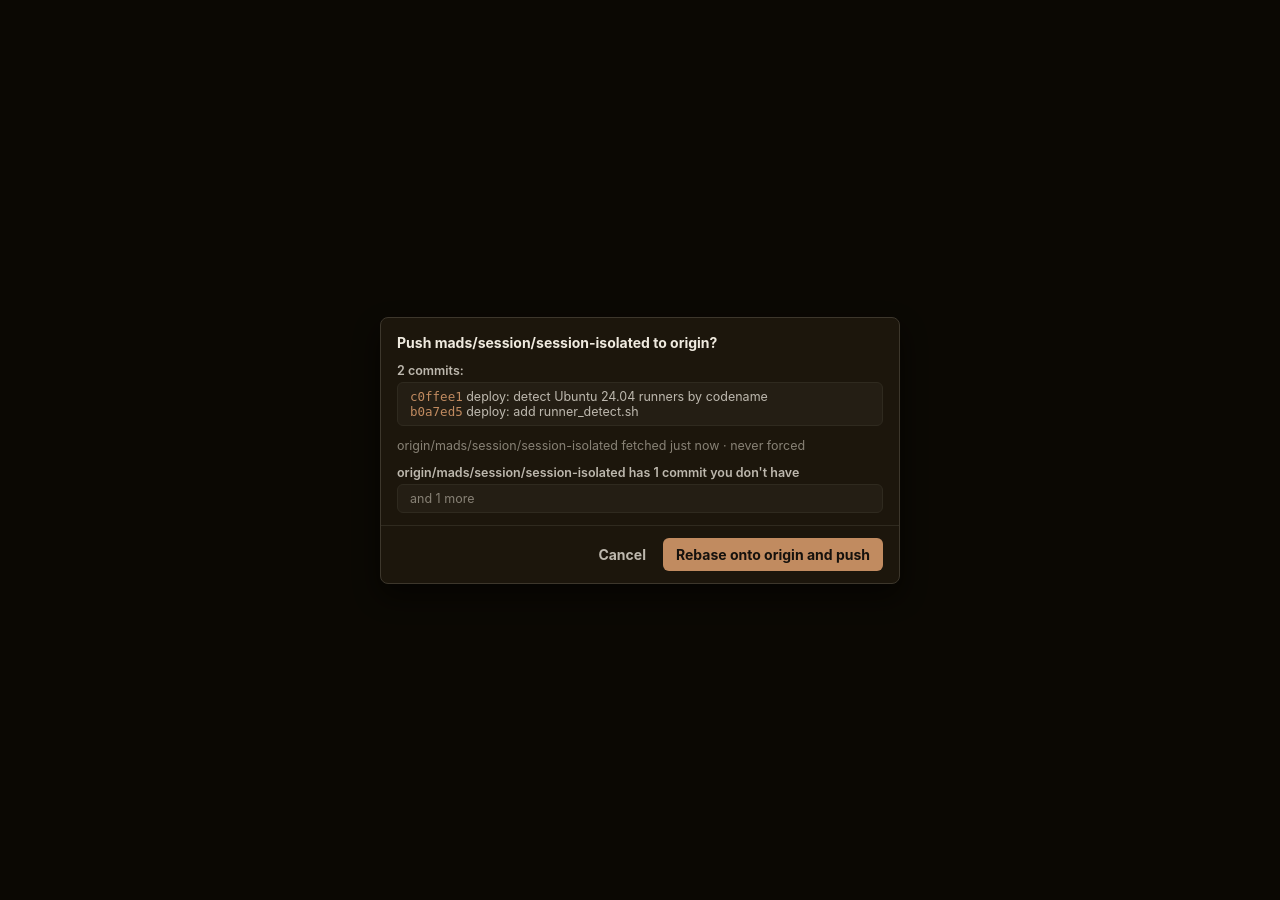
Scenario: PushDialog (D5, mockup §3) › has no Ask the agent without somewhere to draft it
Step 1. Click the button "Rebase onto origin and push" → x=773, y=554, box [663,538,883,570]
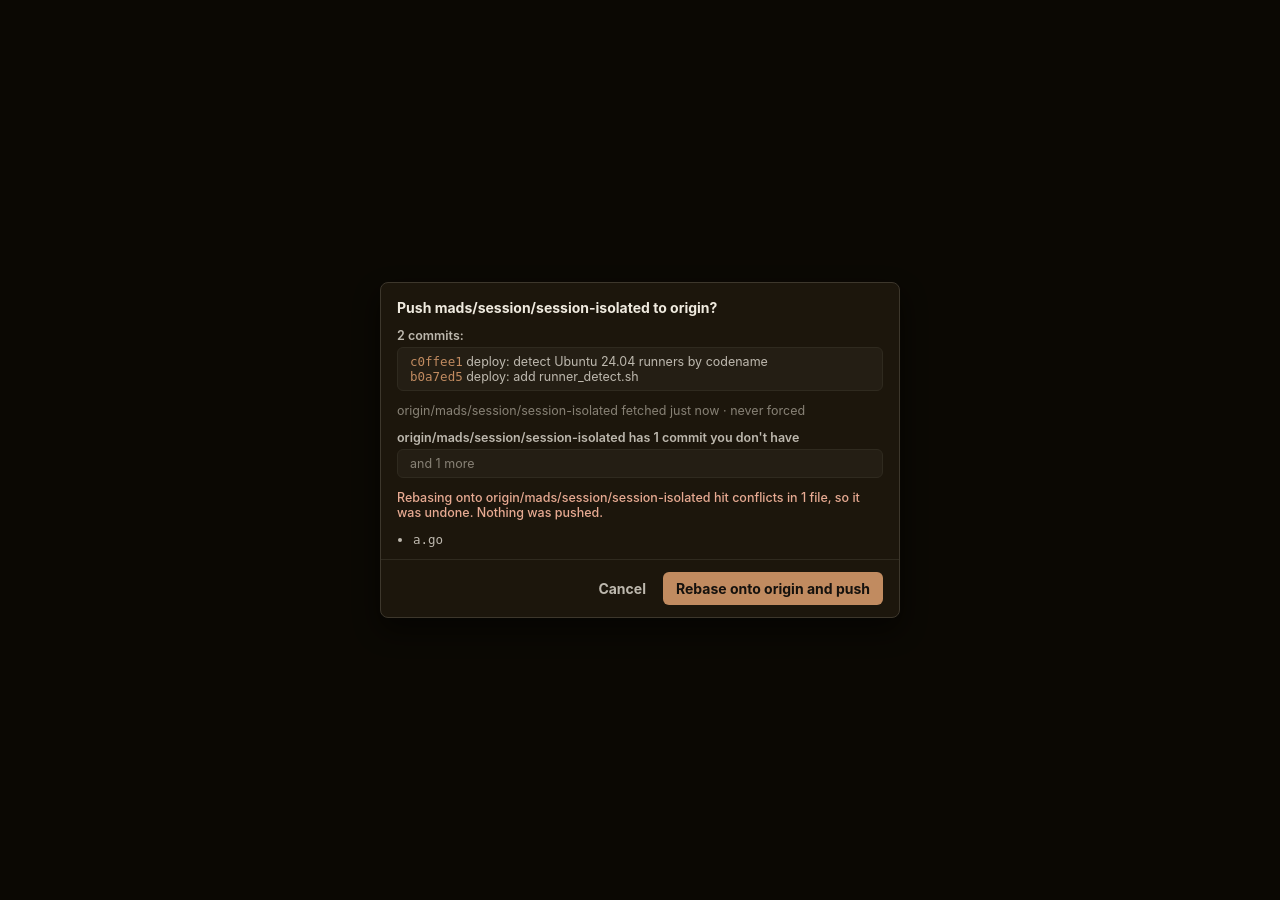
Now the list item "a.go" is shown, box [413,532,443,547]
